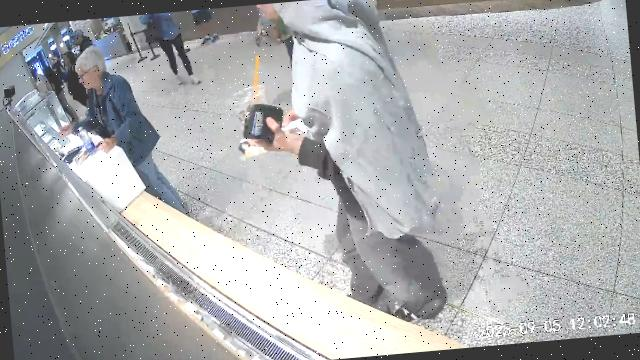sushi-box: (238, 139, 271, 160), (283, 117, 308, 134), (76, 149, 90, 164), (95, 135, 104, 150)
